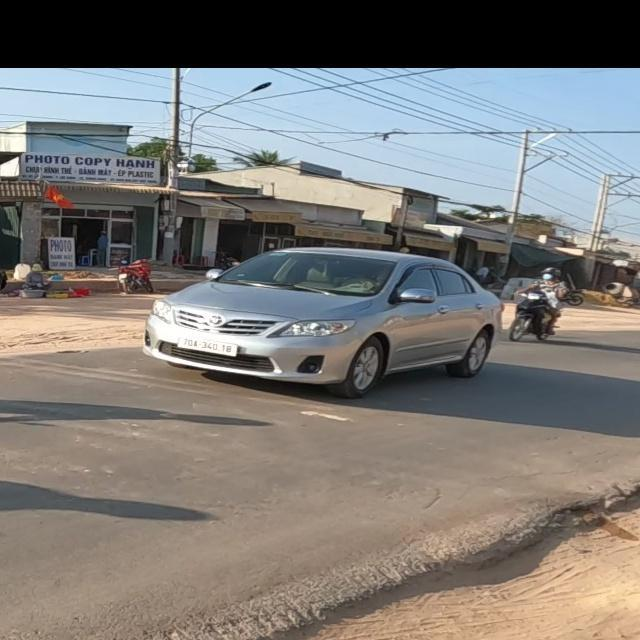car: (142, 242, 506, 402)
motorcycle: (511, 282, 549, 346)
plate: (171, 330, 246, 365)
